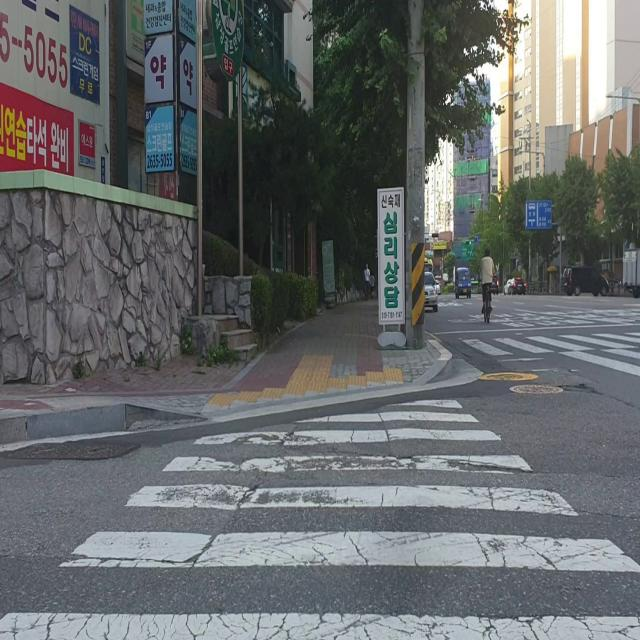횡단보도: (0, 393, 640, 640), (447, 329, 640, 381)
